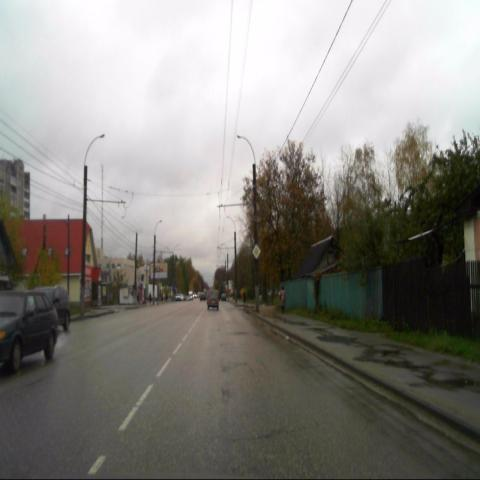2_1: (252, 244, 260, 259)
